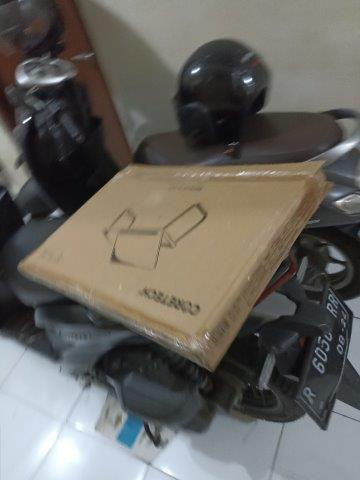kardus: (18, 167, 325, 365)
